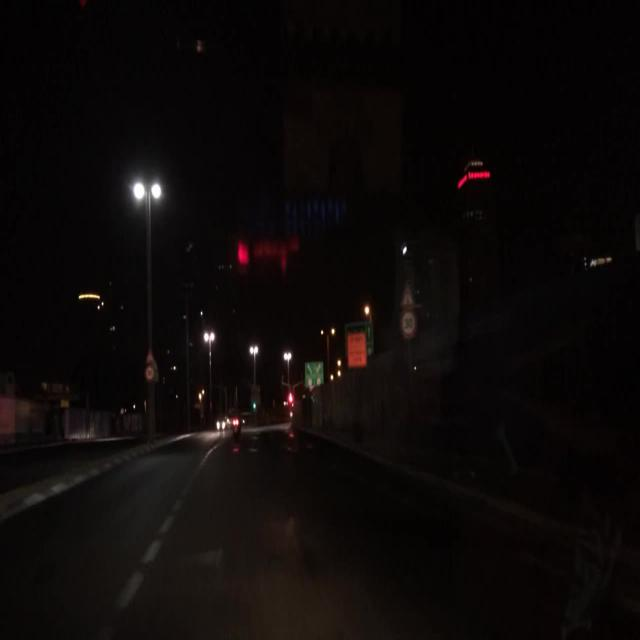car: (213, 417, 230, 432)
motorcycle: (232, 415, 240, 437)
sign: (346, 321, 372, 356), (347, 333, 368, 367), (305, 362, 325, 389), (401, 311, 416, 338), (400, 283, 415, 308), (144, 366, 154, 381), (147, 350, 154, 364)
traffic light: (286, 389, 296, 408)
